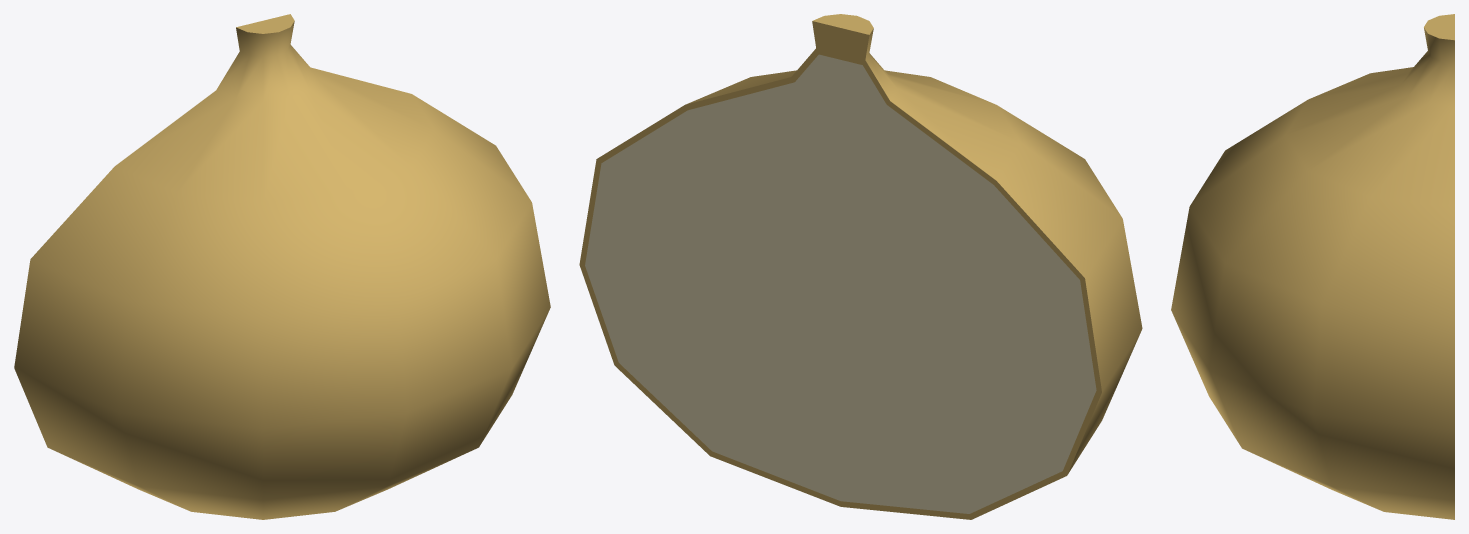
The model's file is HalfOnion.FBX.
3 views of the same model, side by side, from view 1: azimuth 30°, elevation 25°; view 2: azimuth 150°, elevation 25°; view 3: azimuth 270°, elevation 25° (orthographic). The views are drawn at different scales.
Visible parts, largest first — view 1: Onionhalf; view 2: Onionhalf; view 3: Onionhalf.
Part boxes in pixels (box(x1,y1,x2,y2)): Onionhalf: box(14, 14, 550, 519); Onionhalf: box(579, 14, 1142, 519); Onionhalf: box(1171, 14, 1454, 519).
Bounding box in the file's own units: 11.89 × 10.41 × 5.95.
1 material, 1 textured.
